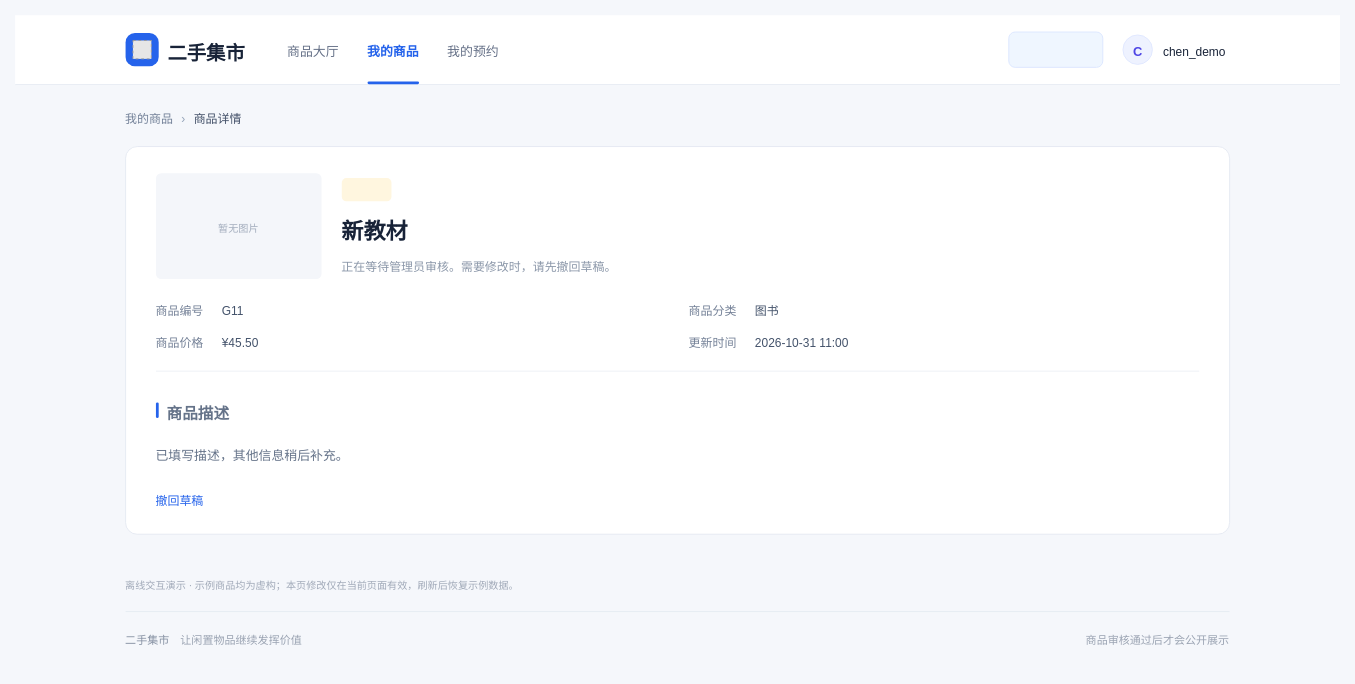
The diagram is 1355 pixels wide and 684 high, and some of its shapes have lost their labels. Grey dashed boxes stand in for pictures. Here are the shapes that lost their labels. From the top down, the centre of each, then its label:
At point (1055, 49): "＋ 发布商品".
At point (366, 189): "待审核".
